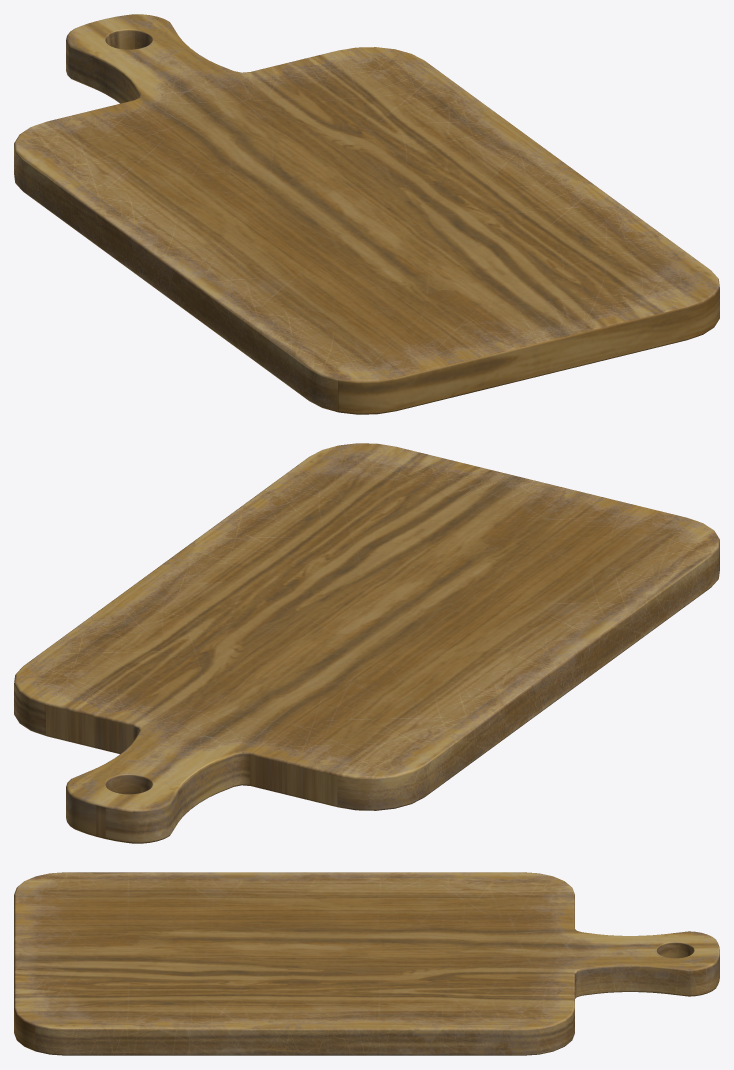
File: cutting board.obj
3 views of the same model, one above another, from view 1: azimuth 30°, elevation 25°; view 2: azimuth 150°, elevation 25°; view 3: azimuth 270°, elevation 25° (orthographic). The views are drawn at different scales.
Visible parts, largest first — view 1: cutting_board_Cube.098; view 2: cutting_board_Cube.098; view 3: cutting_board_Cube.098.
Part boxes in pixels (box(x1,y1,x2,y2)): cutting_board_Cube.098: box(14, 14, 719, 414); cutting_board_Cube.098: box(14, 443, 719, 843); cutting_board_Cube.098: box(14, 872, 719, 1055).
Size of the model in its own units: 0.1852 by 0.0152 by 0.3512.
